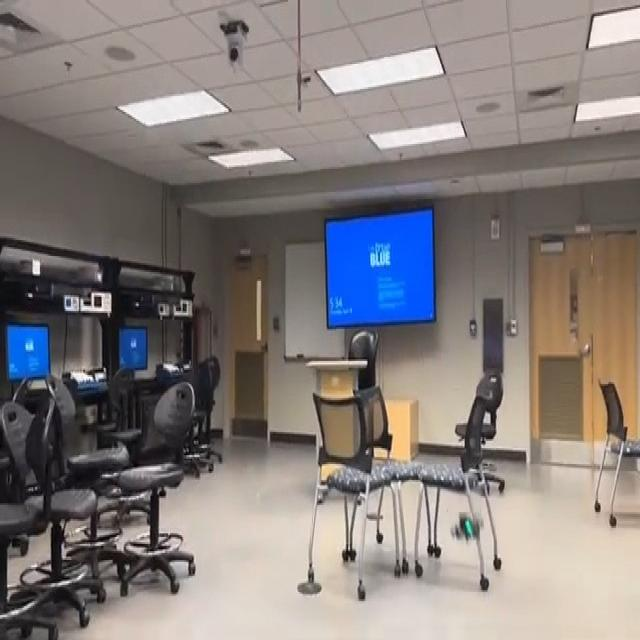drone: (445, 497, 488, 558)
